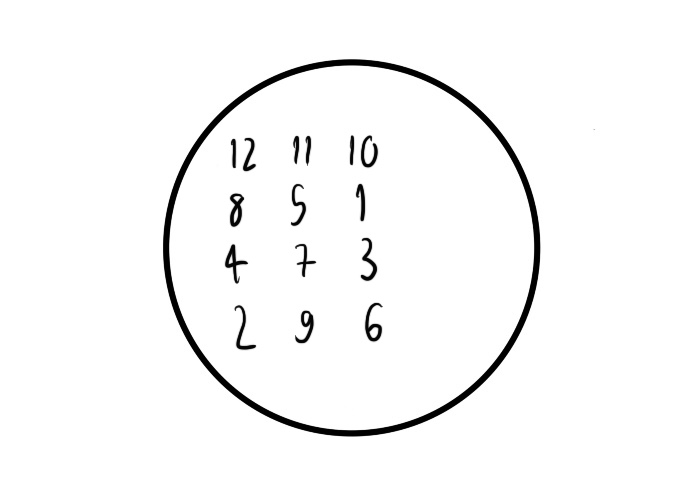eight: (225, 188, 245, 231)
eleven: (287, 130, 313, 168)
five: (289, 181, 308, 228)
four: (222, 243, 249, 288)
nine: (290, 307, 316, 346)
one: (353, 181, 369, 224)
seven: (292, 241, 316, 279)
six: (362, 300, 384, 344)
ten: (347, 133, 380, 168)
three: (358, 234, 378, 284)
twelve: (227, 135, 260, 173)
two: (227, 302, 255, 351)
